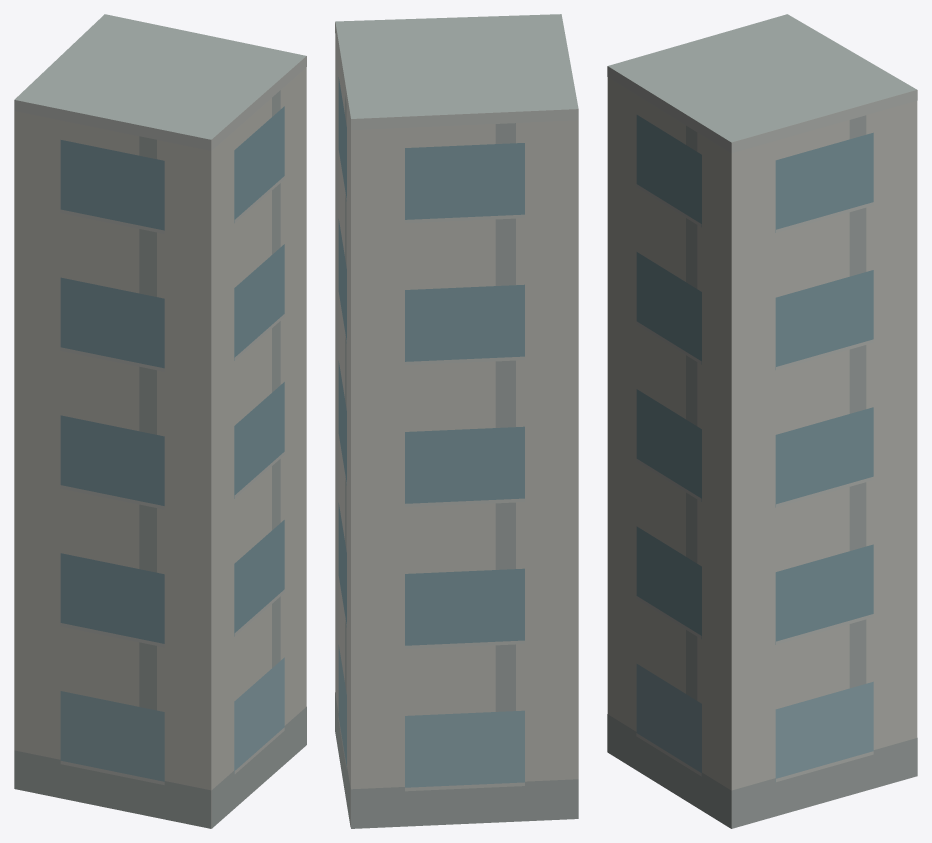
File: survey-upis-32645881.glb
The picture shows the model from 3 angles, left to right: view 1: azimuth 30°, elevation 25°; view 2: azimuth 150°, elevation 25°; view 3: azimuth 270°, elevation 25°; orthographic projection. The views are drawn at different scales.
Parts seen in each view (by area): view 1: survey-upis-32645881.tmp; view 2: survey-upis-32645881.tmp; view 3: survey-upis-32645881.tmp.
Part boxes in pixels (x1=…): survey-upis-32645881.tmp: x1=14, y1=14, x2=306, y2=828; survey-upis-32645881.tmp: x1=335, y1=14, x2=578, y2=828; survey-upis-32645881.tmp: x1=607, y1=14, x2=917, y2=828.
Bounding box in the file's own units: 6.13 × 15.25 × 6.25.
